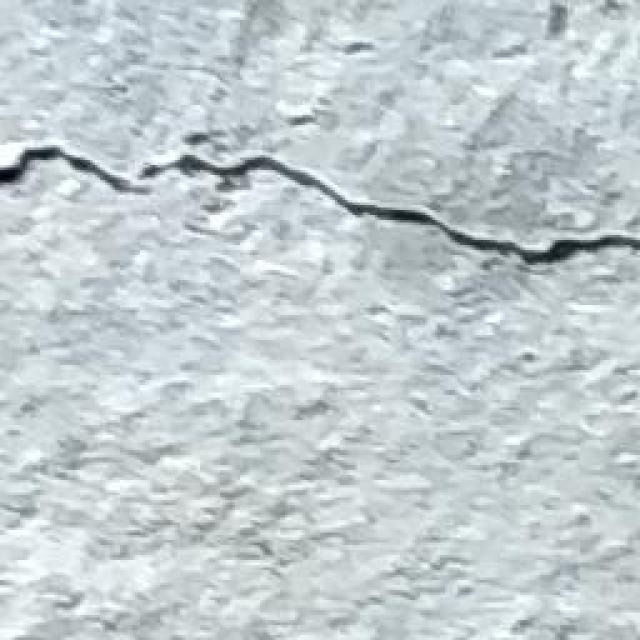Transverse: (0, 119, 640, 308)
